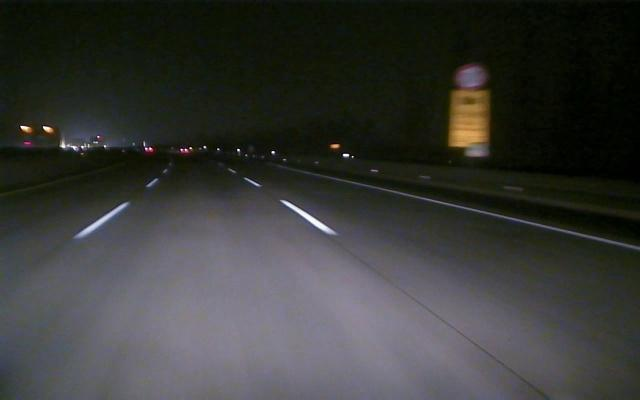lane: (309, 173, 639, 251), (246, 178, 339, 234), (72, 178, 159, 237)
